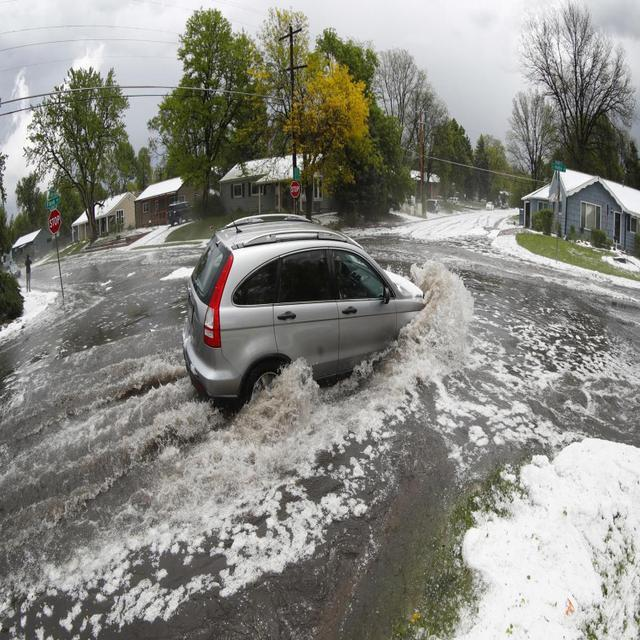Car-RiskLevel2: (155, 195, 450, 404)
